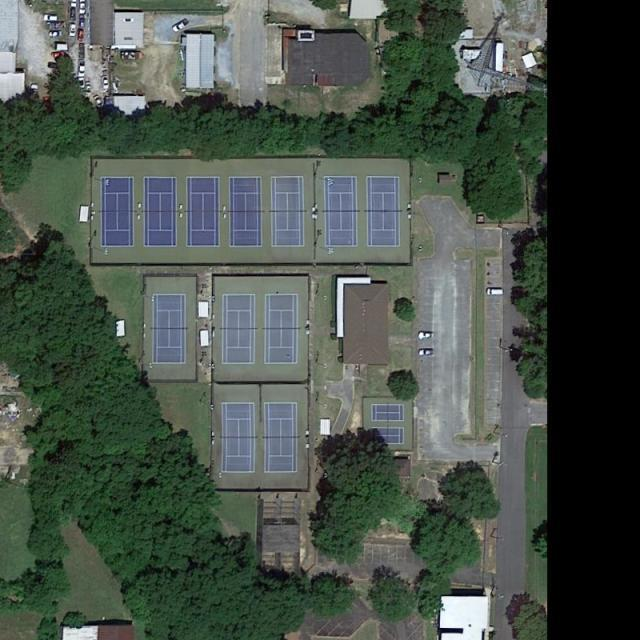vehicle: (171, 18, 191, 34), (418, 349, 434, 358), (78, 60, 86, 78), (93, 95, 104, 108), (418, 332, 434, 340), (78, 43, 86, 59), (51, 51, 66, 59), (486, 289, 503, 296), (44, 14, 58, 22), (48, 30, 62, 38), (79, 1, 87, 14), (102, 76, 109, 90), (69, 23, 76, 37), (78, 28, 85, 42), (70, 8, 76, 22), (79, 15, 86, 27), (78, 78, 84, 90), (86, 81, 92, 91), (70, 1, 77, 7)
